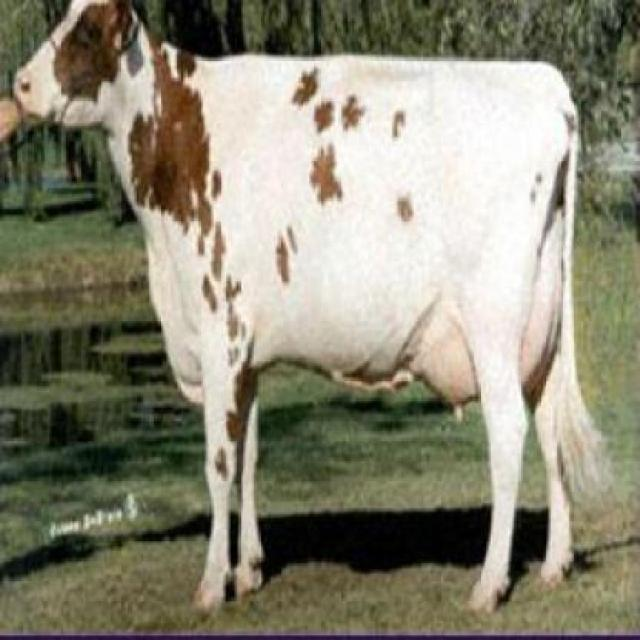Cow: (9, 3, 611, 622)
